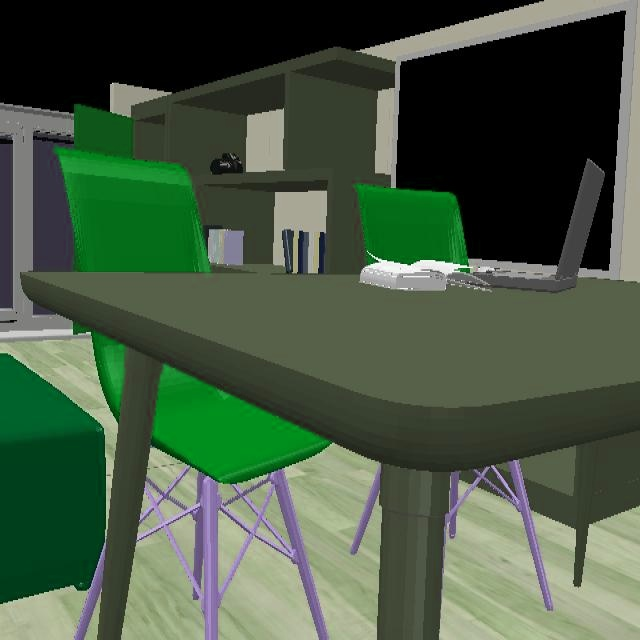book: (359, 260, 486, 292)
bookshelf: (125, 48, 395, 277)
chair: (151, 367, 331, 640), (55, 148, 212, 275), (447, 460, 554, 613), (358, 184, 469, 267), (90, 332, 126, 424), (73, 540, 105, 640), (351, 467, 382, 557)
laptop: (472, 160, 605, 293)
monitor: (393, 0, 637, 280)
sofa: (0, 353, 107, 605)
table: (22, 272, 640, 640)
